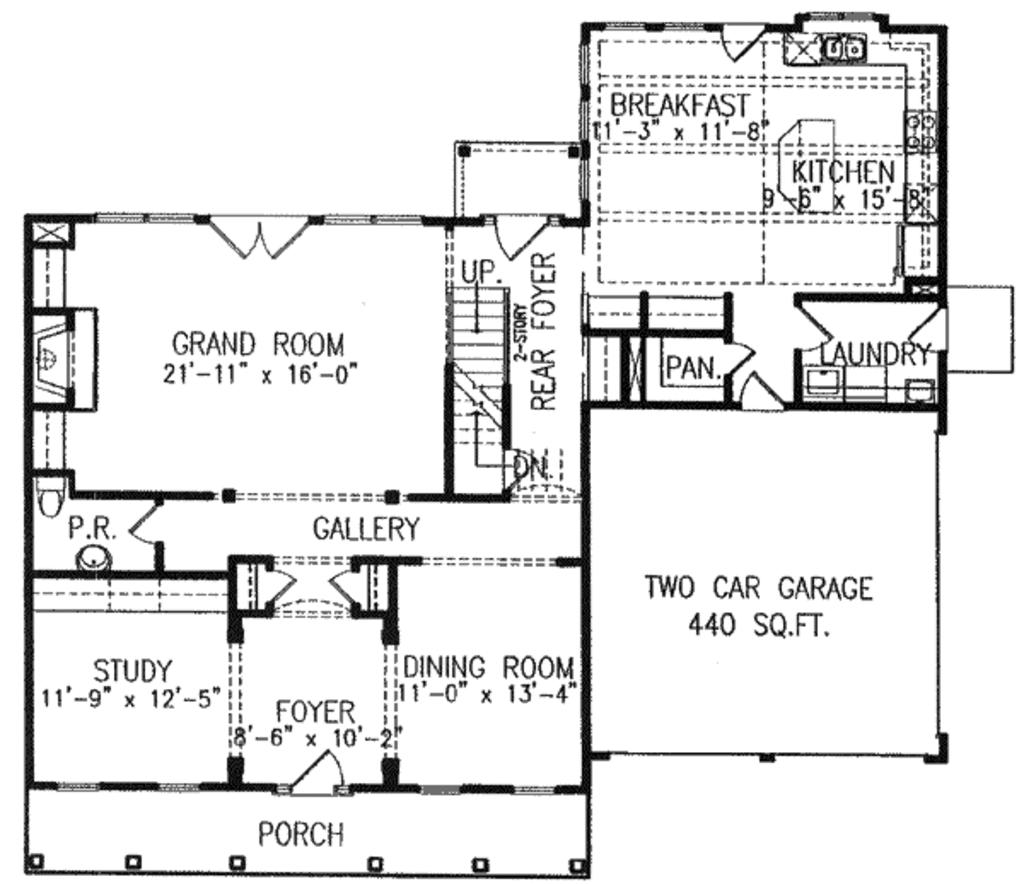door: (205, 213, 310, 261), (491, 213, 552, 265), (284, 750, 348, 798), (722, 20, 768, 67), (797, 300, 834, 351), (739, 373, 785, 412), (123, 504, 163, 547), (329, 566, 362, 606), (723, 339, 755, 377), (267, 569, 297, 604)
large_sink: (33, 471, 68, 520)
small_sink: (70, 536, 116, 580)
stairs: (443, 260, 519, 492)
windows: (327, 206, 429, 232), (83, 206, 199, 228)
